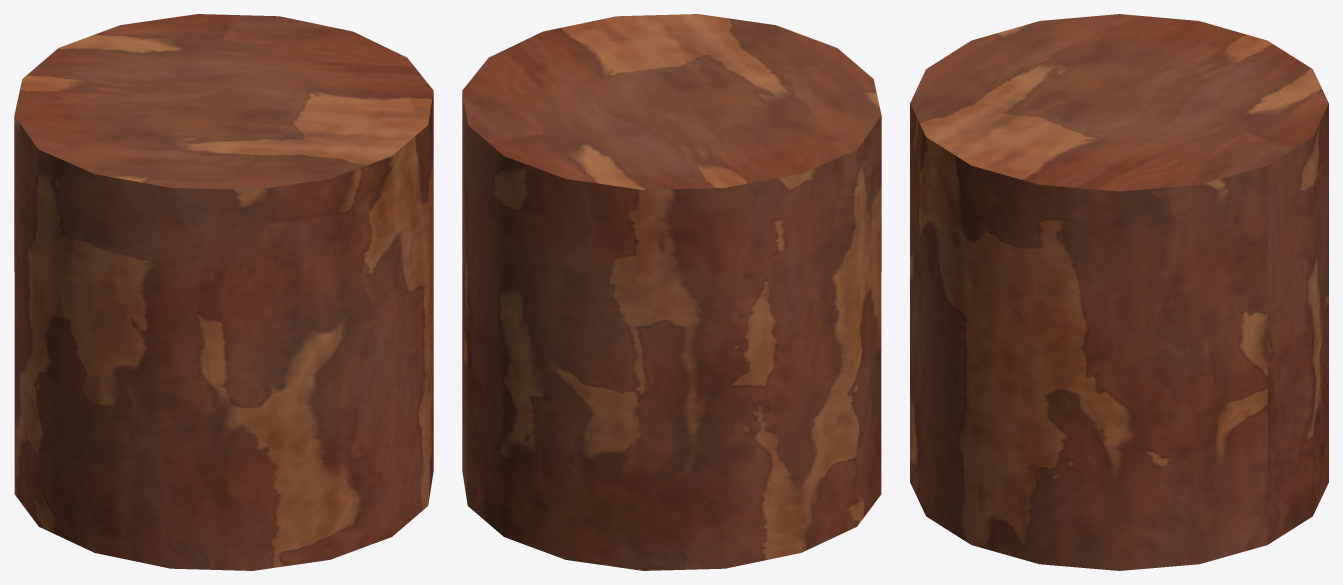
The model's file is NoBranchTrunk.fbx.
3 views of the same model, side by side, from view 1: azimuth 30°, elevation 25°; view 2: azimuth 150°, elevation 25°; view 3: azimuth 270°, elevation 25° (orthographic).
Visible parts, largest first — view 1: ZeroRami; view 2: ZeroRami; view 3: ZeroRami.
Boxes of the visible parts, x1,y1,x2,y2 form: ZeroRami: (14, 14, 433, 570); ZeroRami: (462, 14, 881, 570); ZeroRami: (910, 14, 1328, 570).
Size of the model in its own units: 203 by 200 by 200.
